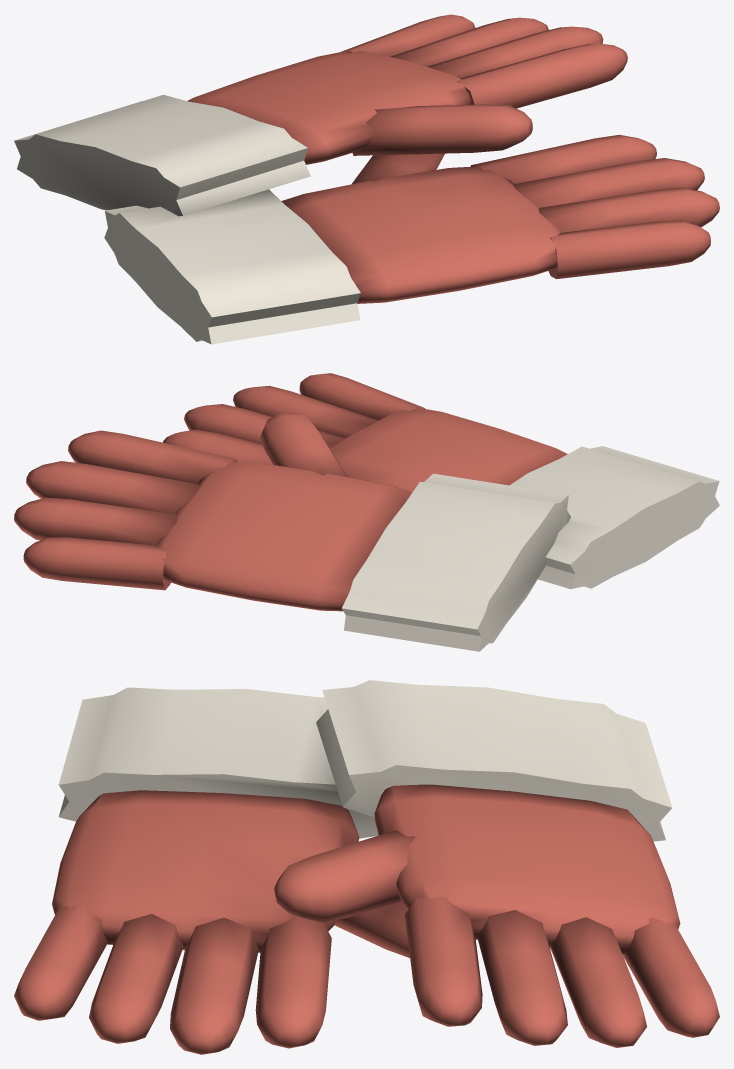
Rendered from wear_gloves.glb.
The picture shows the model from 3 angles, top to bottom: view 1: azimuth 30°, elevation 25°; view 2: azimuth 150°, elevation 25°; view 3: azimuth 270°, elevation 25°; orthographic projection. The views are drawn at different scales.
Visible parts, largest first — view 1: PART; view 2: PART; view 3: PART.
Part boxes in pixels (bbox=[...]): PART: bbox=[14, 14, 719, 344]; PART: bbox=[14, 373, 719, 651]; PART: bbox=[14, 680, 719, 1054].
Size of the model in its own units: 0.2462 by 0.0378 by 0.2162.
